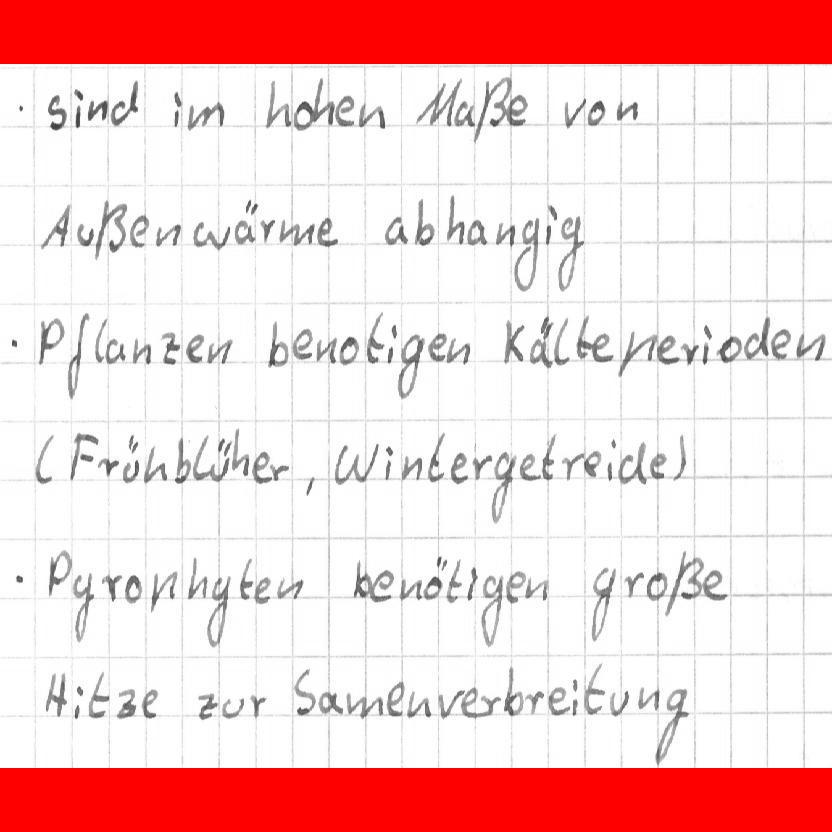Char: (652, 686, 689, 766), (471, 75, 513, 143), (63, 311, 92, 397), (555, 213, 585, 293), (585, 565, 616, 640), (513, 216, 544, 290), (331, 441, 380, 486), (395, 331, 424, 405), (416, 77, 458, 127), (667, 549, 699, 614), (478, 567, 503, 650), (615, 327, 653, 381), (94, 200, 127, 261), (205, 573, 231, 649), (37, 199, 72, 252), (70, 570, 94, 642), (65, 430, 98, 481), (490, 454, 513, 521), (264, 78, 290, 131), (111, 78, 138, 128), (147, 569, 179, 611), (528, 312, 551, 369), (292, 665, 317, 717), (37, 317, 63, 366), (233, 196, 258, 246), (45, 548, 70, 598), (744, 314, 770, 362), (187, 101, 226, 133), (33, 430, 55, 486), (583, 662, 605, 717), (42, 671, 67, 719), (192, 218, 229, 250), (208, 435, 233, 482), (442, 193, 465, 243), (618, 442, 643, 488), (414, 196, 436, 247), (344, 692, 384, 720), (267, 319, 289, 368), (365, 310, 384, 366), (313, 74, 333, 127), (192, 433, 213, 483), (502, 319, 525, 364), (795, 330, 826, 363), (427, 431, 447, 482), (230, 426, 250, 477), (87, 672, 108, 720), (184, 555, 205, 602), (142, 444, 166, 485), (701, 566, 727, 603), (552, 317, 572, 365), (504, 668, 524, 716), (424, 554, 444, 601), (671, 430, 689, 482), (280, 218, 311, 248), (122, 432, 140, 483), (356, 100, 385, 131), (173, 437, 191, 485), (45, 90, 66, 131), (540, 433, 558, 480), (352, 558, 372, 600), (128, 212, 149, 251), (274, 575, 303, 603), (384, 214, 408, 247), (562, 95, 584, 131), (154, 221, 182, 249), (574, 315, 591, 361), (445, 335, 471, 365), (438, 686, 462, 718), (206, 335, 232, 364), (238, 555, 254, 602), (373, 568, 395, 602), (159, 330, 180, 365), (458, 685, 479, 720), (656, 333, 678, 366), (114, 685, 136, 718), (505, 93, 527, 126), (407, 690, 431, 720), (591, 331, 614, 362), (183, 332, 205, 364), (93, 319, 109, 363), (385, 680, 404, 717), (335, 92, 355, 127), (524, 573, 549, 601), (140, 684, 160, 719), (445, 560, 462, 601), (717, 334, 740, 364), (614, 97, 640, 123), (636, 684, 661, 711), (338, 334, 359, 366), (316, 216, 338, 246), (318, 688, 342, 715), (505, 570, 524, 604), (622, 569, 645, 597), (449, 452, 469, 484), (252, 451, 272, 483), (428, 331, 448, 363), (771, 328, 791, 360), (315, 334, 335, 366), (466, 217, 488, 246), (471, 453, 493, 482), (294, 326, 312, 361), (195, 691, 216, 721), (493, 221, 517, 247), (85, 96, 108, 123), (130, 337, 151, 366), (103, 336, 124, 365), (523, 688, 544, 717), (123, 572, 142, 604), (648, 451, 667, 483), (100, 572, 119, 604), (645, 570, 664, 602), (519, 452, 539, 482), (295, 96, 312, 131), (384, 323, 398, 365), (609, 687, 629, 716), (399, 577, 423, 601), (71, 680, 85, 721), (401, 455, 423, 481), (477, 692, 499, 718), (454, 100, 475, 127), (549, 685, 567, 716), (254, 574, 272, 605), (584, 449, 602, 480), (464, 564, 478, 603), (567, 675, 580, 716), (563, 453, 582, 481), (221, 695, 244, 718), (701, 325, 714, 365), (545, 202, 557, 245), (247, 692, 266, 719), (71, 88, 83, 130), (74, 222, 94, 247), (381, 443, 394, 481), (679, 341, 698, 367), (260, 216, 278, 243), (99, 455, 121, 477), (606, 438, 617, 482), (171, 88, 183, 127), (588, 100, 606, 125), (302, 472, 320, 497), (269, 463, 288, 483), (13, 100, 31, 118), (12, 570, 28, 587), (6, 335, 19, 353)
